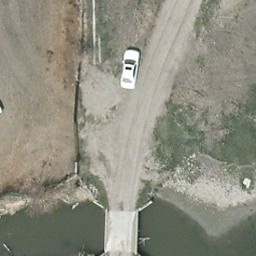car: (121, 47, 140, 89)
